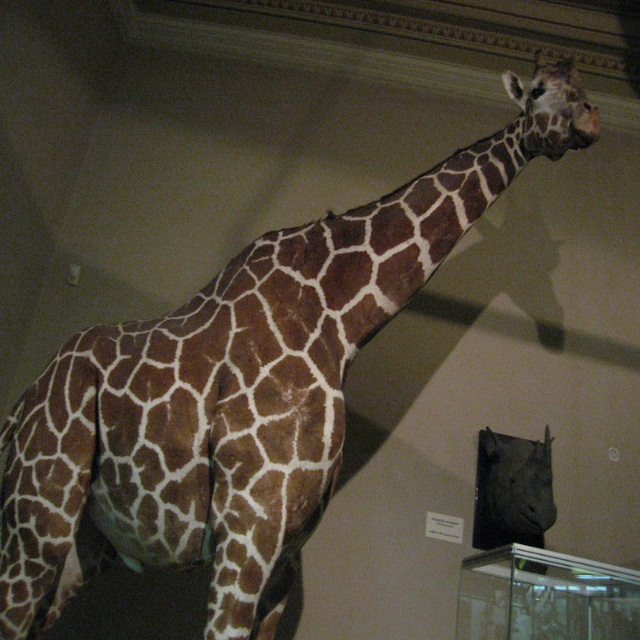Giraffe: (52, 61, 608, 640)
